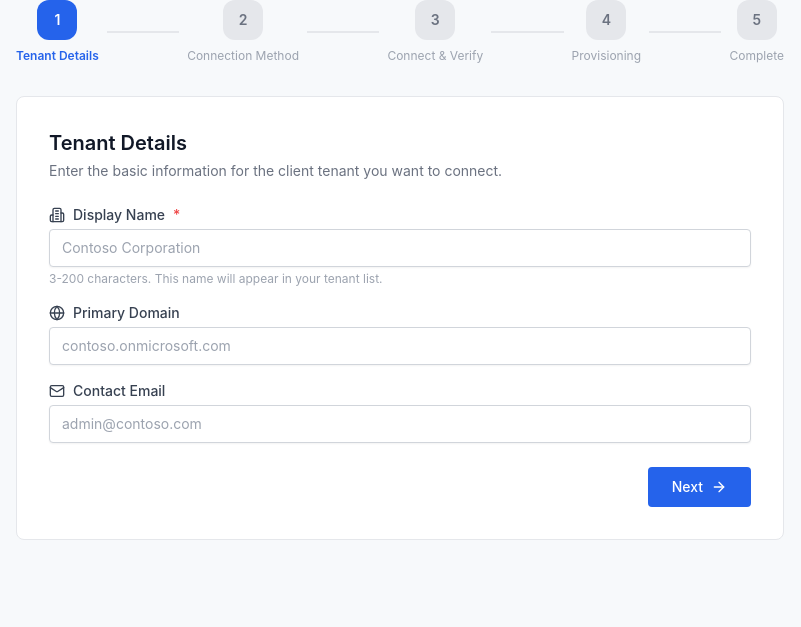
OnboardingWizard › validates displayName minimum length
# Enter too-short name
In the field labelled "Display Name *": (400, 248) [49,229,751,267], type "AB"
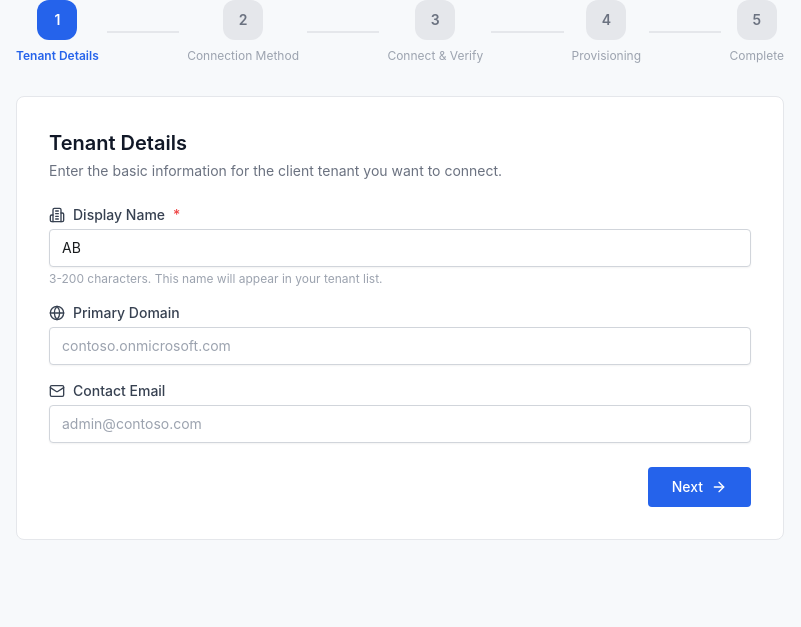
Click the button "Next": (699, 487) [648,467,751,507]
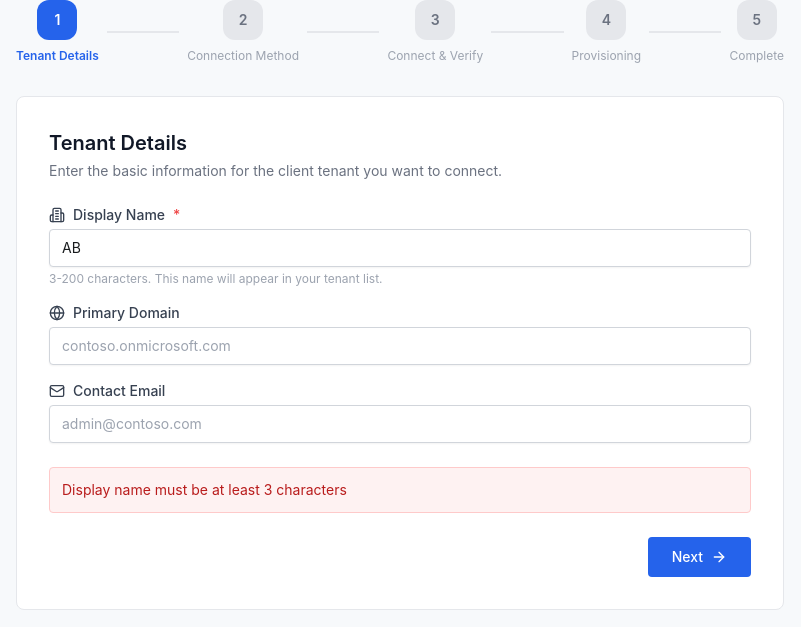
Expected: the text "Display name must be at least 3 characters" is shown, [49,467,751,513]
